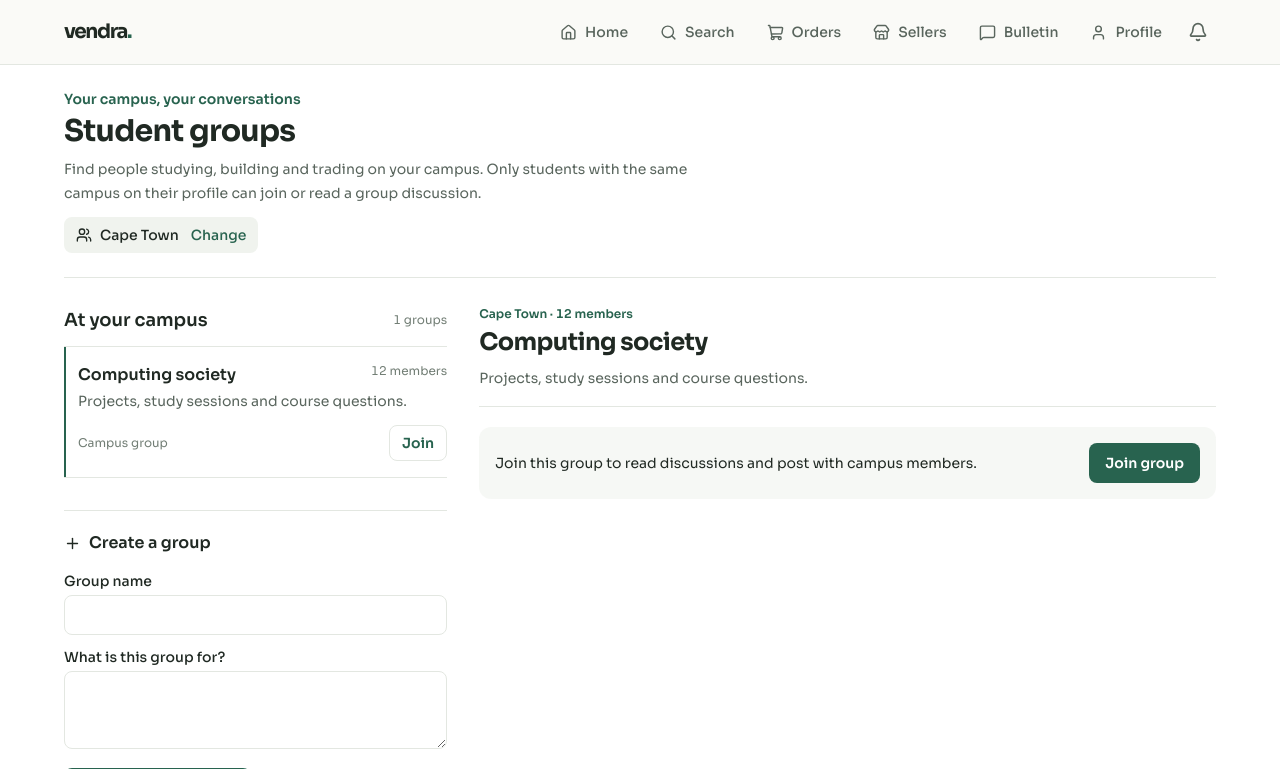
Test: student campus groups › lets a student join a campus group and then load its private discussions
Expected: the heading "Computing society" is shown, [479,327,708,357]
Click the button "Join".
click(418, 443)  # box [389,425,447,461]
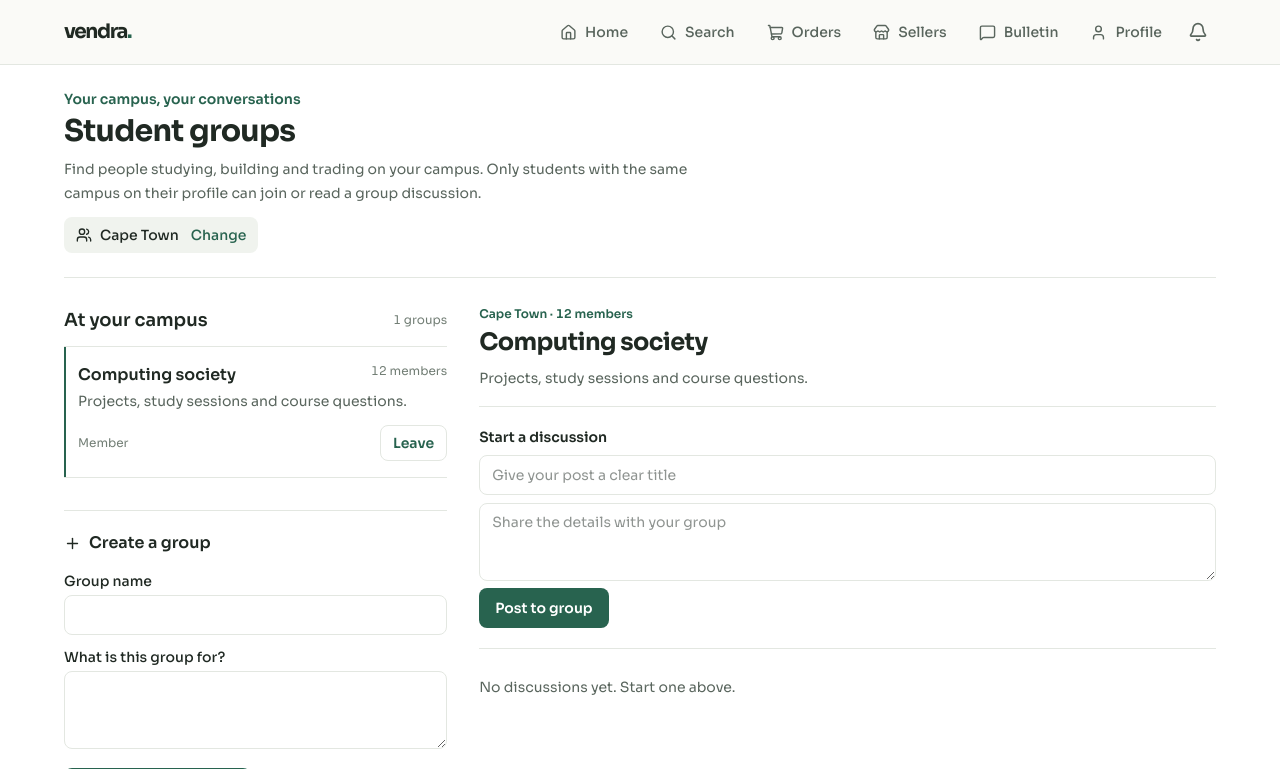
Now the text "No discussions yet. Start one above." is shown, box [479,678,736,696]
